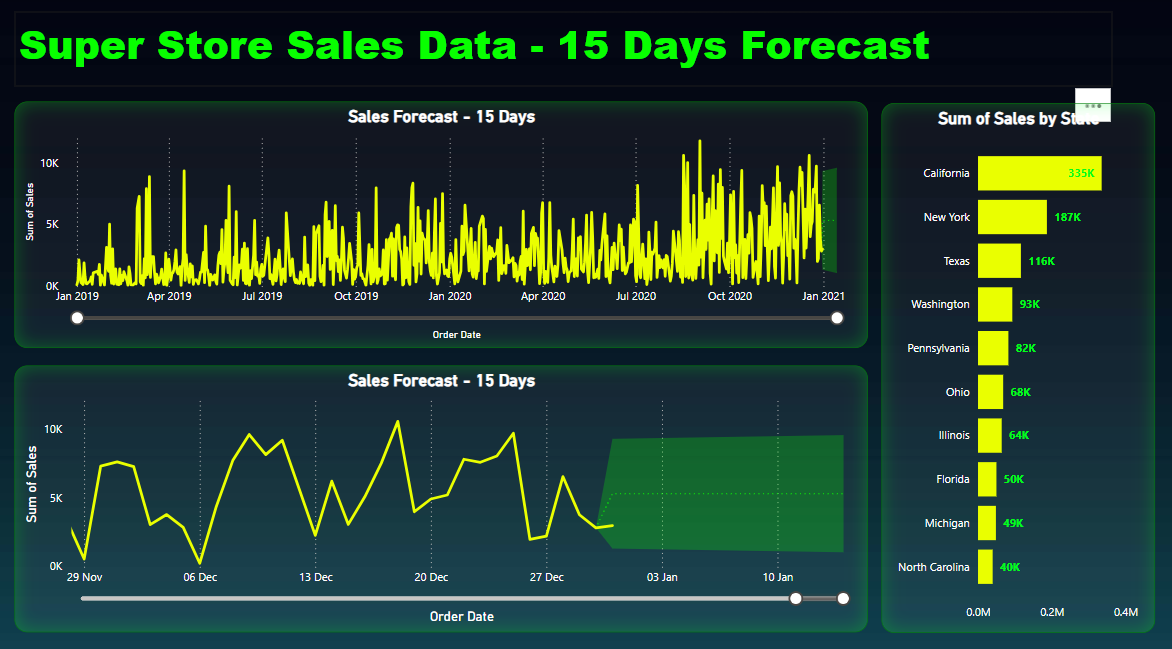

The dashboard page shown, as its layout file describes it:
{"tool":"powerbi","page":{"name":"Forecasting","canvas":[1280,720],"ordinal":1},"visuals":[{"type":"lineChart","title":"Sales Forecast - 15 Days","fields":{"Y":["Sum(SuperStore_Sales_Dataset.Sales)"],"Category":["SuperStore_Sales_Dataset.Order Date"]},"box":[17.5,112.8,925,267],"z":0},{"type":"lineChart","title":"Sales Forecast - 15 Days","fields":{"Y":["Sum(SuperStore_Sales_Dataset.Sales)"],"Category":["SuperStore_Sales_Dataset.Order Date"]},"box":[17.5,398.9,925,289.3],"z":1000},{"type":"textbox","box":[17.5,14.3,1190.5,81.1],"z":1001},{"type":"barChart","fields":{"Category":["SuperStore_Sales_Dataset.State"],"Y":["Sum(SuperStore_Sales_Dataset.Sales)"]},"box":[958.1,113.4,296.7,574.5],"z":1002}]}

Visuals, with their boxes in screenshot pixels (x1, y1, x2, y2), scaled from the page's 1280x720 canvas onto the 1172x649 screenshot:
"Sales Forecast - 15 Days" lineChart: x1=16 y1=102 x2=863 y2=342
"Sales Forecast - 15 Days" lineChart: x1=16 y1=360 x2=863 y2=620
textbox: x1=16 y1=13 x2=1106 y2=86
barChart - SuperStore_Sales_Dataset.State x Sum(SuperStore_Sales_Dataset.Sales): x1=877 y1=102 x2=1149 y2=620
